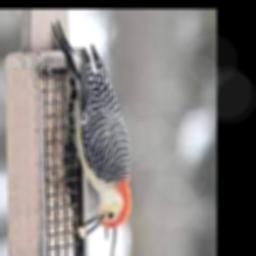Woodpecker: (52, 21, 130, 237)
